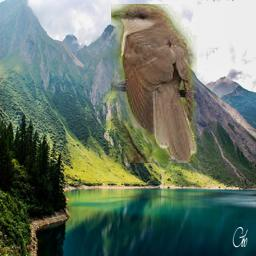Cuckoo: (111, 5, 197, 164)
